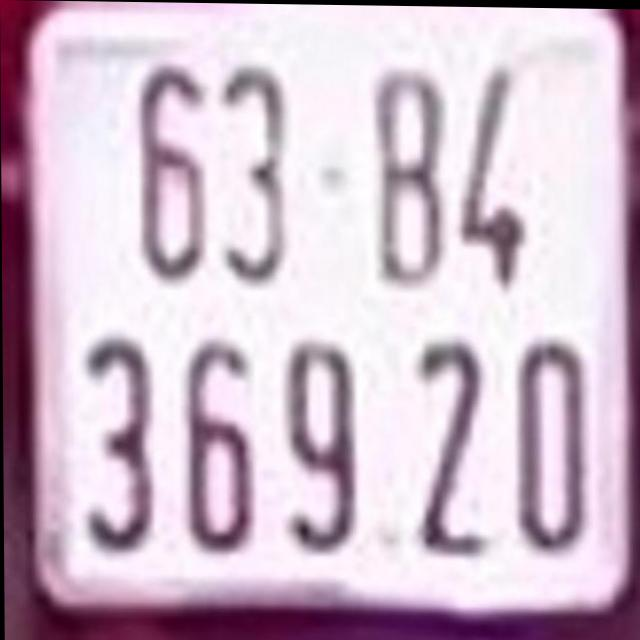0: (517, 332, 588, 561)
2: (410, 337, 498, 557)
3: (83, 336, 154, 556), (218, 57, 283, 287)
4: (464, 66, 536, 300)
6: (135, 62, 210, 273), (185, 333, 252, 546)
9: (286, 341, 355, 549)
B: (369, 70, 446, 282)
